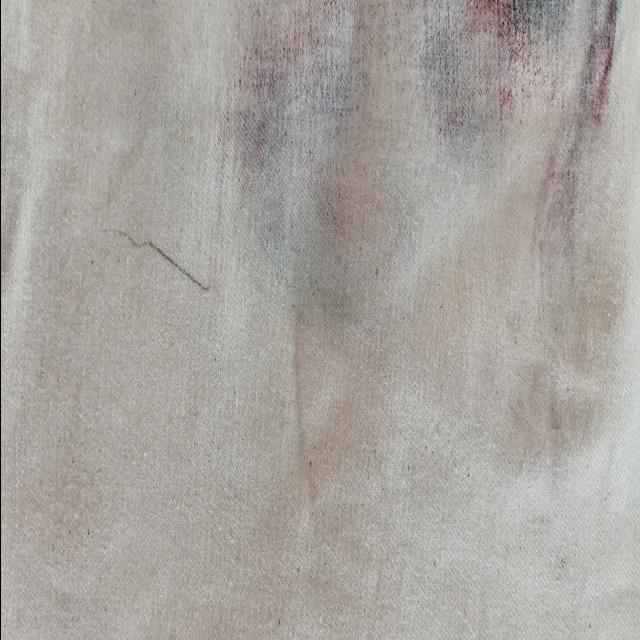taaaches: (228, 0, 630, 371), (124, 206, 214, 308)
